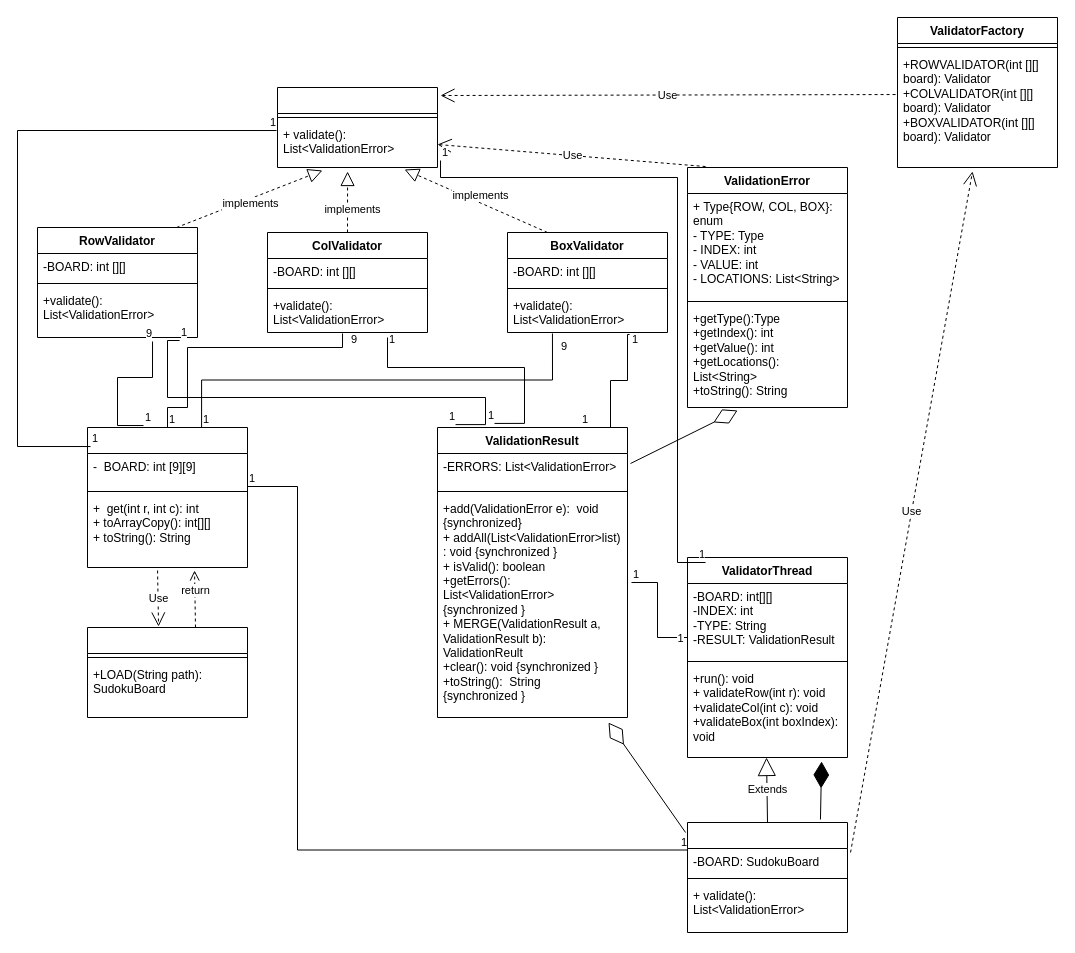
Some shapes in this 1075 by 953 pixel diagram are drawn without their labels. Here are the shapes that lost their labels. From the top down, the box of each, then its label:
(276, 86, 438, 168): Validator <<interface>>
(86, 426, 248, 568): SudokuBoard
(86, 626, 248, 718): CSVLoader
(686, 822, 848, 932): ThreeModeValidator
